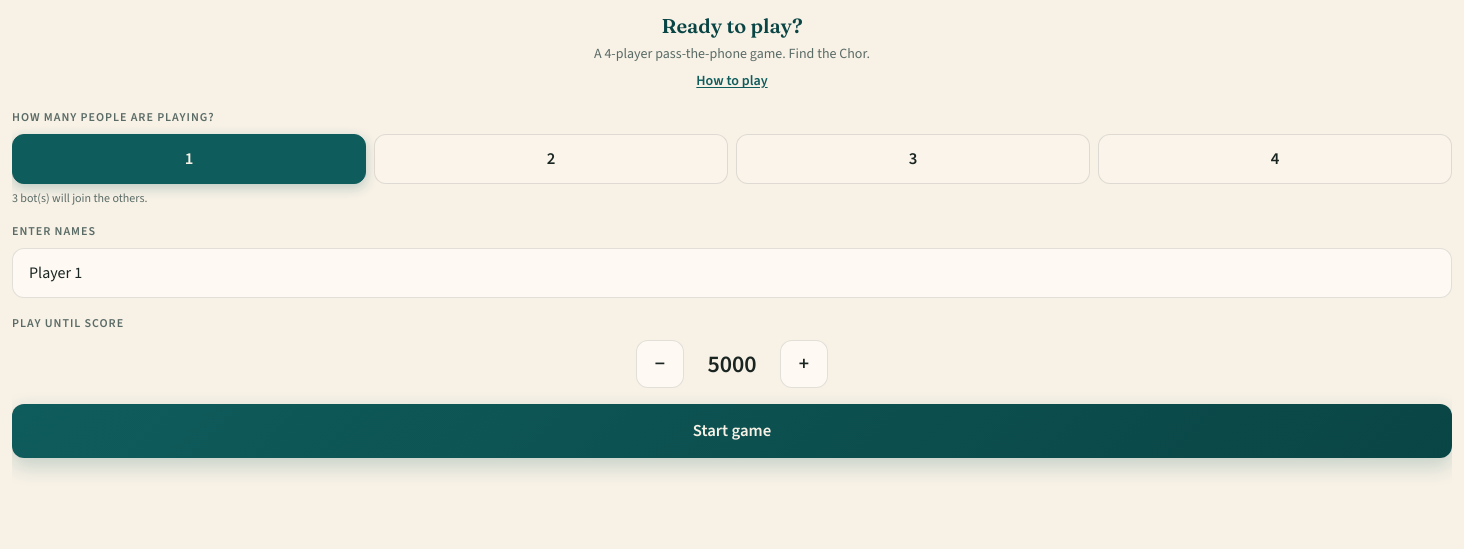
SetupScreen › disables Start on duplicate names and enables when unique
Click the button "2" at (551, 159), box [374,134,728,184]
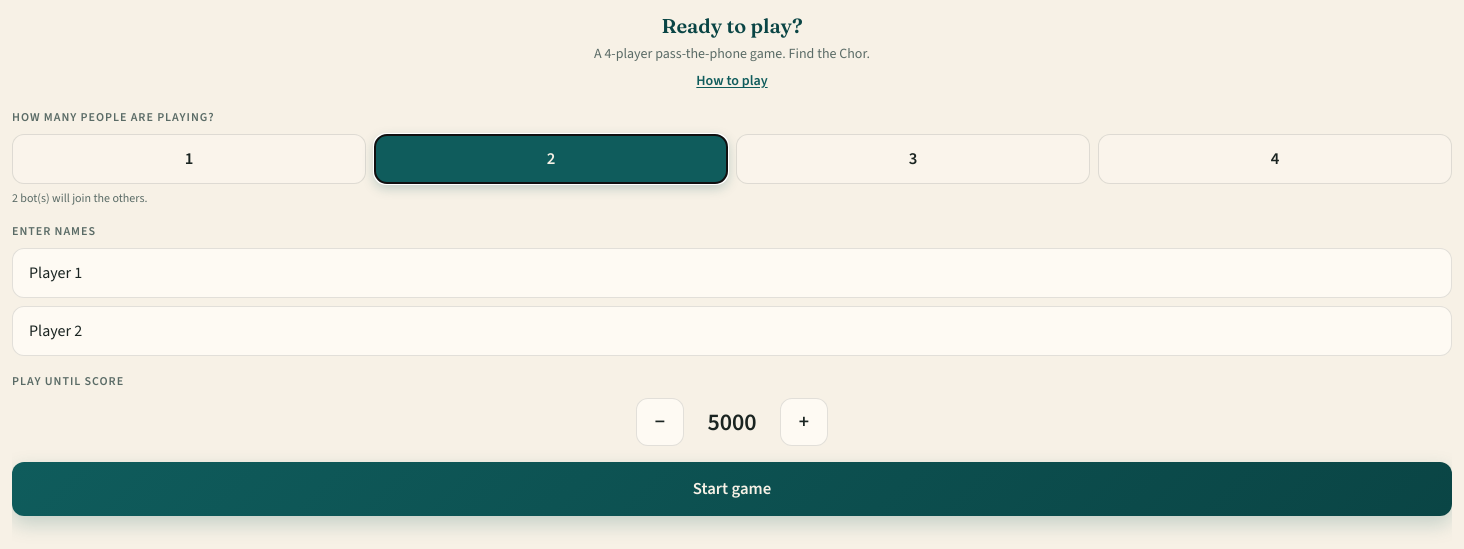
Type "Ada" into the 1st field with placeholder "Player 1" at (732, 273), box [12,248,1452,298]
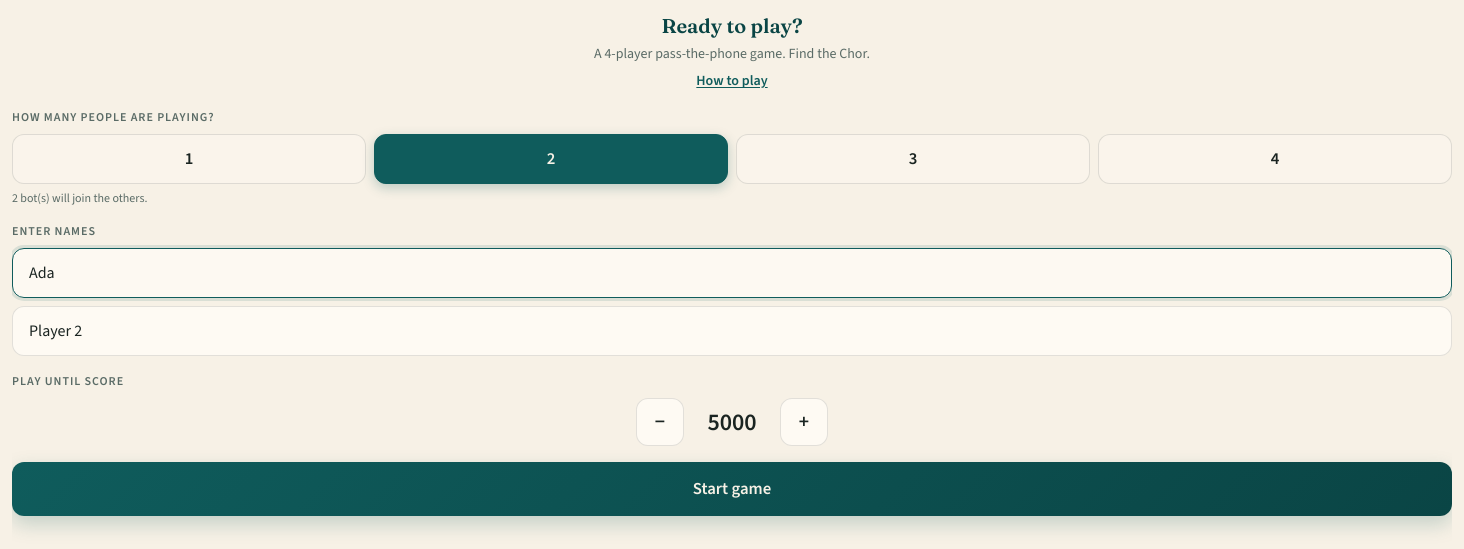
Type "ada" into the 2nd field with placeholder "Player 2" at (732, 331), box [12,306,1452,356]
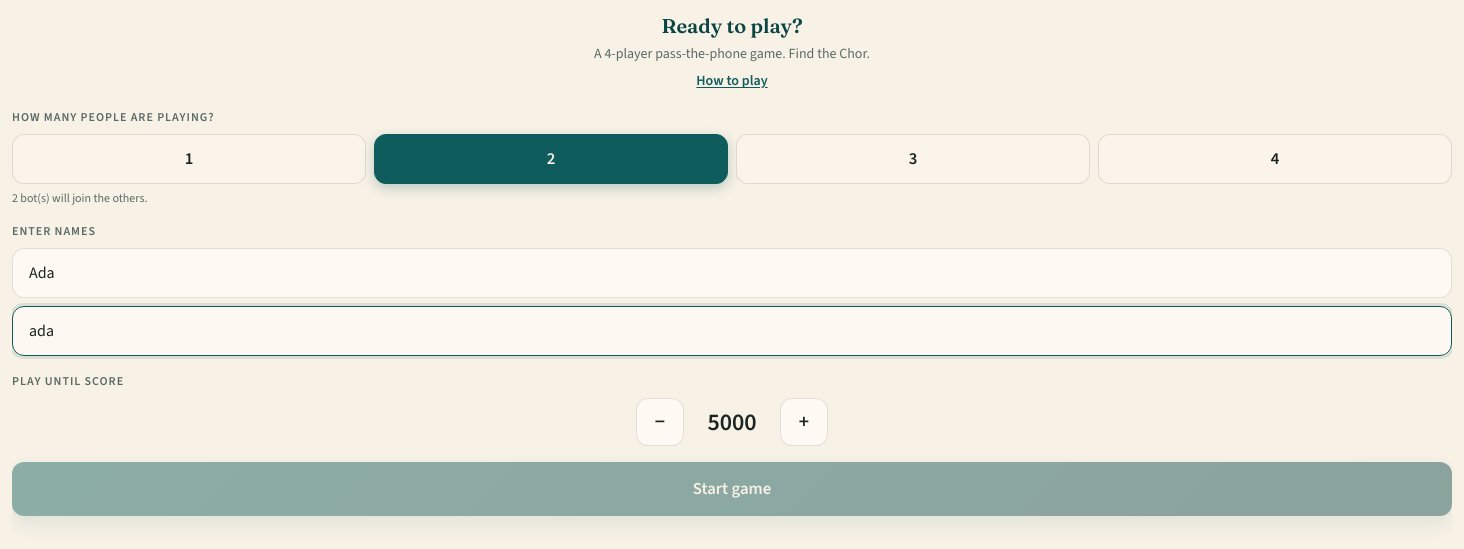
Now the button "Start game" is disabled, box [12,462,1452,516]
Replace the text in the 2nd field with placeholder "Player 2" with "Bea" at (732, 331), box [12,306,1452,356]
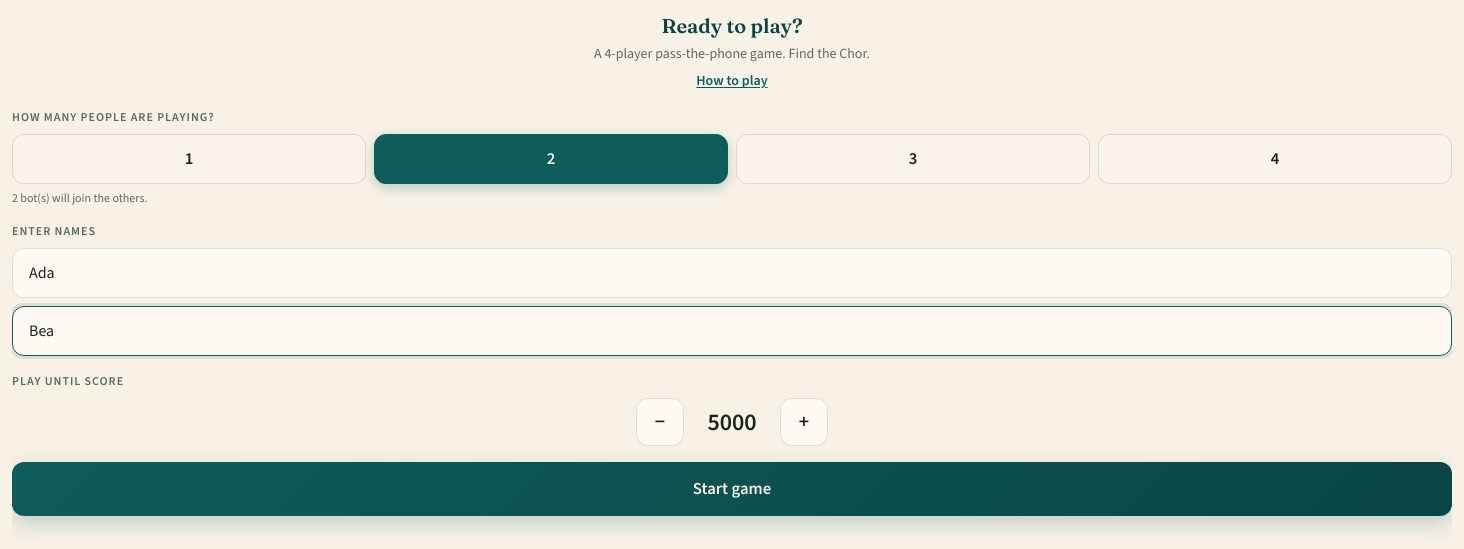
Now the button "Start game" is enabled, box [12,462,1452,516]
